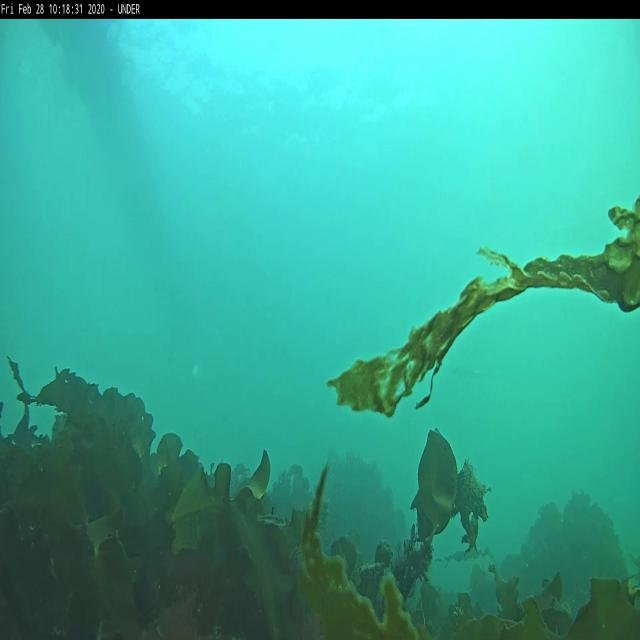fish: (258, 511, 286, 528)
